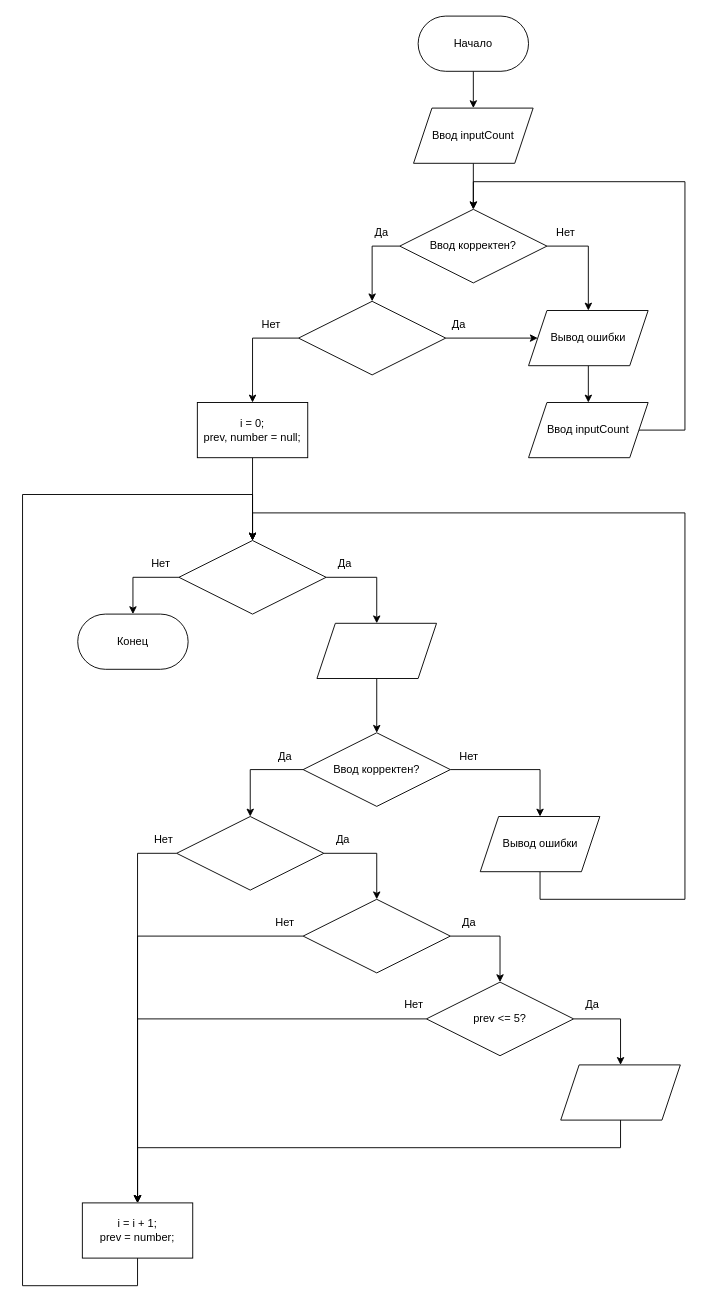
Image size: 708x1309. Some labels were removed from this diagram. Here are the shapes that lost their labels. From the top down, the centre of each, then its label:
At point 372,337: "inputCount < 0?".
At point 252,577: "i < inputCount ?".
At point 376,650: "Ввод number".
At point 250,853: "i > 0?".
At point 376,935: "number > 0?".
At point 620,1092: "Вывод i, i+1, prev, number".
